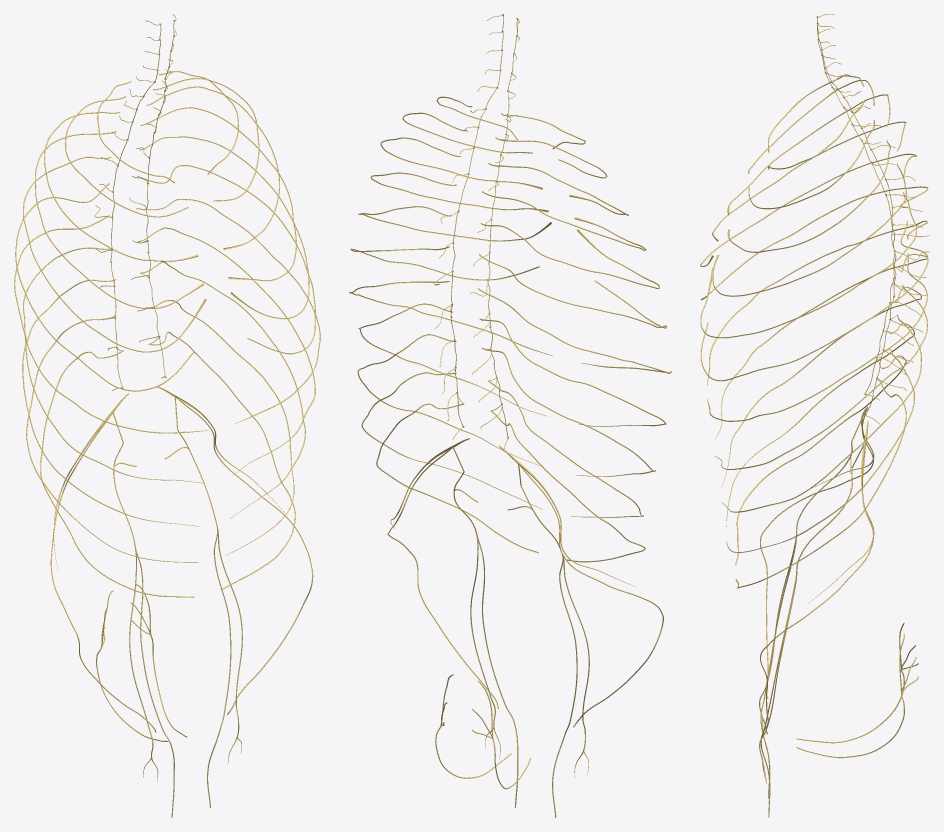
Rendered from trunk-and-pelvic-nerves.glb.
3 renders of one model, left to right at view 1: azimuth 30°, elevation 25°; view 2: azimuth 150°, elevation 25°; view 3: azimuth 270°, elevation 25°, orthographic. The views are drawn at different scales.
Visible parts, largest first — view 1: ZA_intercostal_nerves_r, ZA_intercostal_nerves_l, ZA_ilio_inguinal_nerve_l, ZA_ilio_inguinal_nerve_r; view 2: ZA_intercostal_nerves_l, ZA_intercostal_nerves_r, ZA_ilio_inguinal_nerve_r, ZA_sympathetic_trunk_l; view 3: ZA_intercostal_nerves_l, ZA_intercostal_nerves_r, ZA_sympathetic_trunk_l, ZA_ilio_inguinal_nerve_r, ZA_sympathetic_nerves_l, ZA_ilio_inguinal_nerve_l, ZA_genital_branch_of_genitofemoral_nerve_r, ZA_pudendal_nerve_l, ZA_sympathetic_trunk_r, ZA_sympathetic_nerves_r.
Boxes of the visible parts, x1,y1,x2,y2 form: ZA_intercostal_nerves_r: [14, 81, 207, 597]; ZA_intercostal_nerves_l: [136, 71, 320, 590]; ZA_ilio_inguinal_nerve_l: [175, 396, 313, 714]; ZA_ilio_inguinal_nerve_r: [50, 418, 156, 732]; ZA_intercostal_nerves_l: [349, 96, 552, 553]; ZA_intercostal_nerves_r: [477, 113, 671, 562]; ZA_ilio_inguinal_nerve_r: [520, 466, 663, 727]; ZA_sympathetic_trunk_l: [450, 15, 503, 439]; ZA_intercostal_nerves_l: [700, 101, 928, 588]; ZA_intercostal_nerves_r: [700, 74, 928, 565]; ZA_sympathetic_trunk_l: [817, 23, 896, 424]; ZA_ilio_inguinal_nerve_r: [760, 413, 873, 698]; ZA_sympathetic_nerves_l: [818, 40, 929, 390]; ZA_ilio_inguinal_nerve_l: [760, 442, 873, 734]; ZA_genital_branch_of_genitofemoral_nerve_r: [760, 517, 799, 798]; ZA_pudendal_nerve_l: [796, 634, 918, 758]; ZA_sympathetic_trunk_r: [817, 14, 896, 400]; ZA_sympathetic_nerves_r: [819, 29, 929, 374].
Size of the model in its own units: 0.2658 by 0.7222 by 0.1905.
